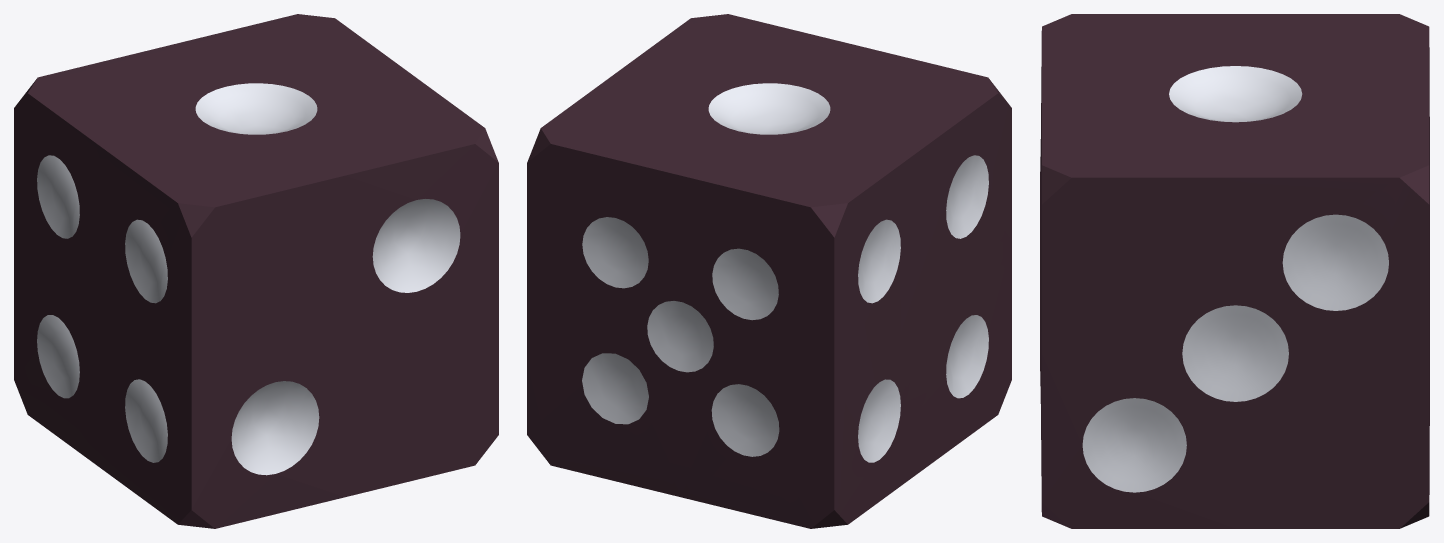
The model's file is Dice_DarkBrown.fbx.
3 renders of one model, left to right at view 1: azimuth 30°, elevation 25°; view 2: azimuth 150°, elevation 25°; view 3: azimuth 270°, elevation 25°, orthographic. The views are drawn at different scales.
Visible parts, largest first — view 1: Dice_DarkBrown; view 2: Dice_DarkBrown; view 3: Dice_DarkBrown.
Part boxes in pixels (<box>): Dice_DarkBrown: <box>14,14,498,528</box>; Dice_DarkBrown: <box>527,14,1011,528</box>; Dice_DarkBrown: <box>1040,14,1429,528</box>.
Bounding box in the file's own units: 110 × 111 × 111.
